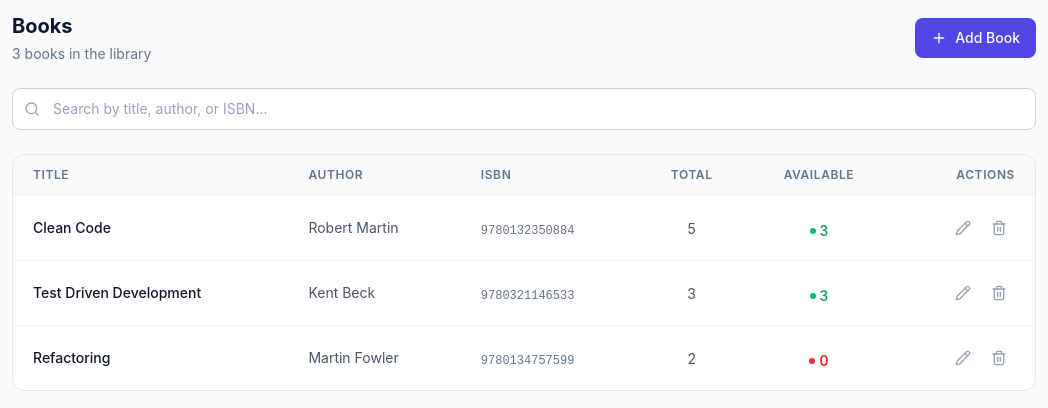
Test: Books › filters books by search
The width and height of the screenshot is (1048, 408).
Expected: the text "Clean Code" is shown, [33,219,111,236]
Type "Kent" into the field with placeholder "Search by title, author, or ISBN..." at (524, 109), box [12,88,1036,130]
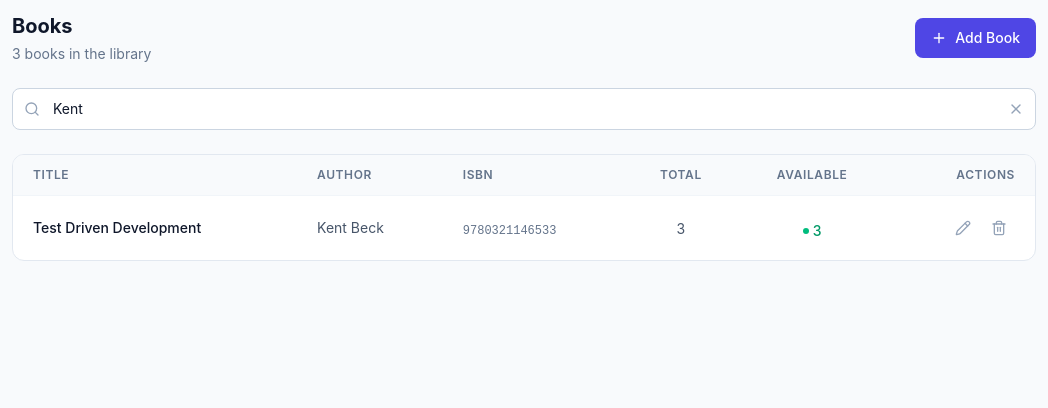
Expected: the text "Test Driven Development" is shown, [33,219,201,236]
Expected: the text "Clean Code" is gone
Expected: the text "Refactoring" is gone
